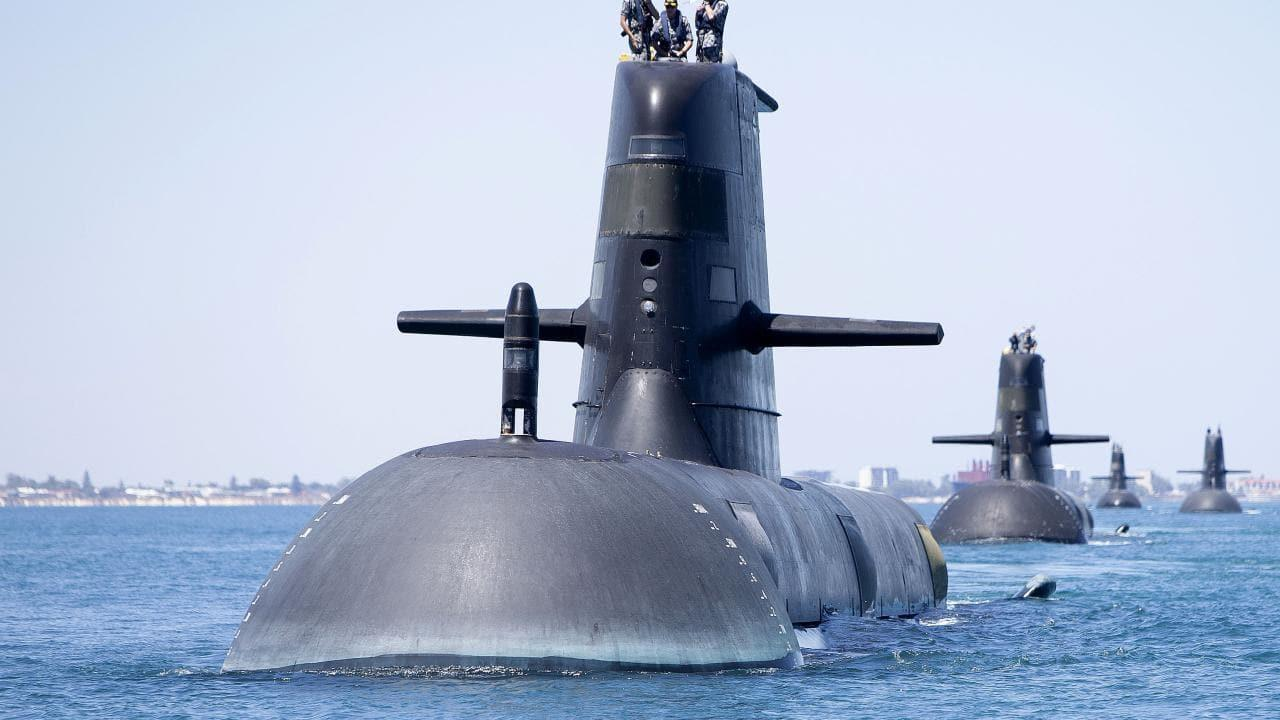Submarine: (152, 0, 975, 713)
